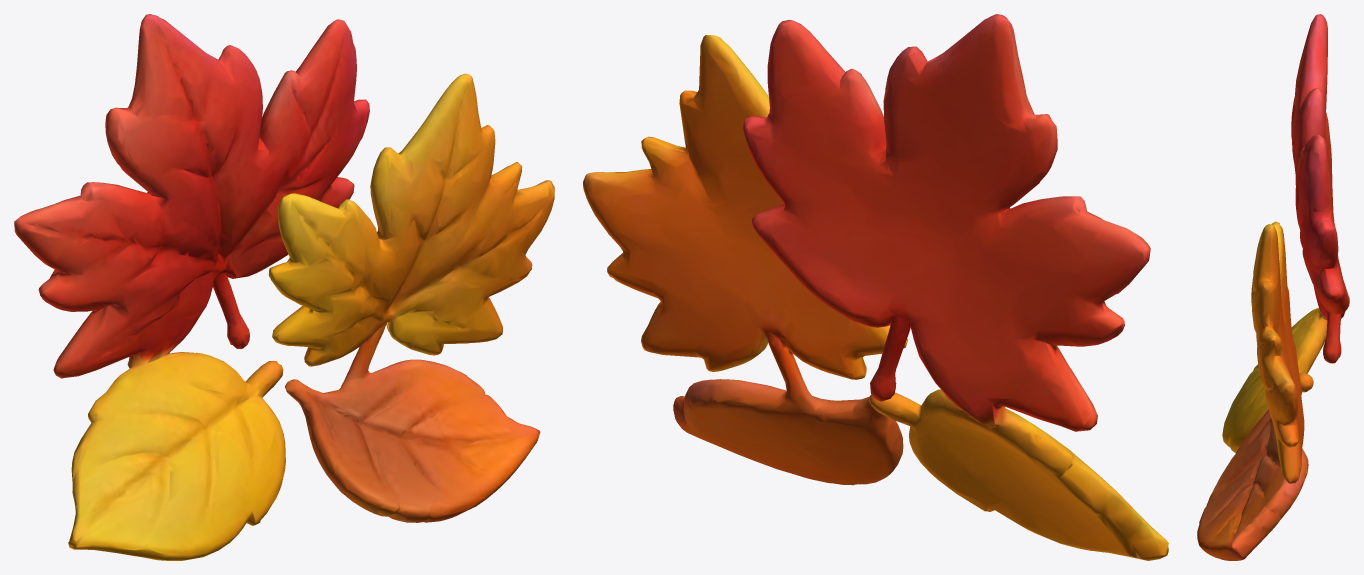
The model's file is leaf.glb.
3 renders of one model, left to right at view 1: azimuth 30°, elevation 25°; view 2: azimuth 150°, elevation 25°; view 3: azimuth 270°, elevation 25°, orthographic. The views are drawn at different scales.
Bounding box in the file's own units: 1 × 0.9416 × 0.2981.
1 material, 1 textured.
